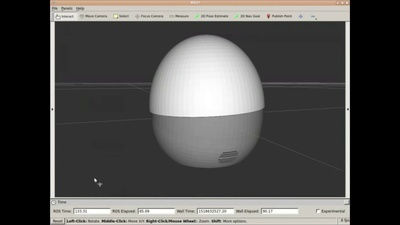mira_robot: (149, 34, 265, 169)
